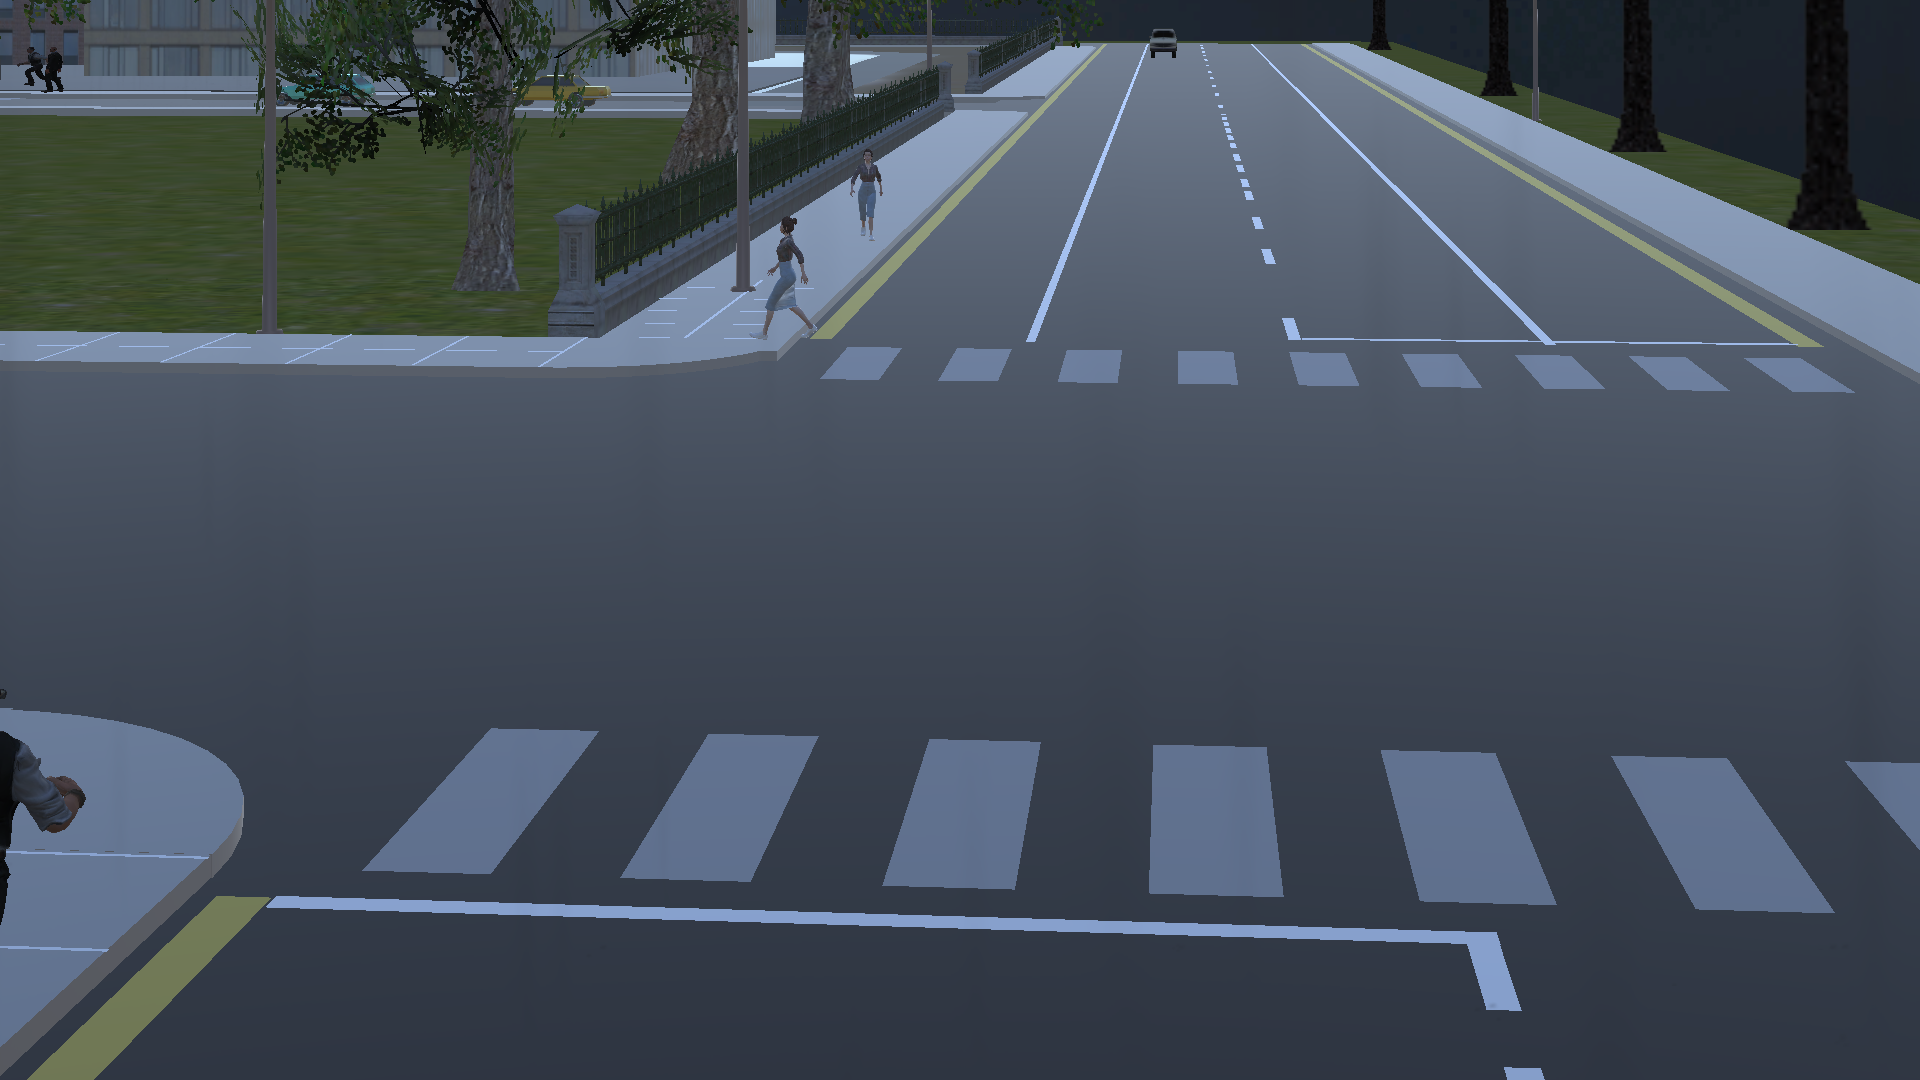pedestrian: (764, 198, 821, 349), (838, 136, 903, 239)
